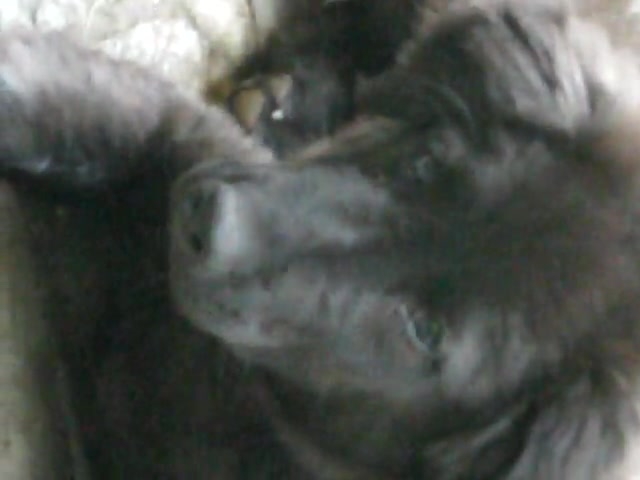dog: (1, 1, 640, 480)
